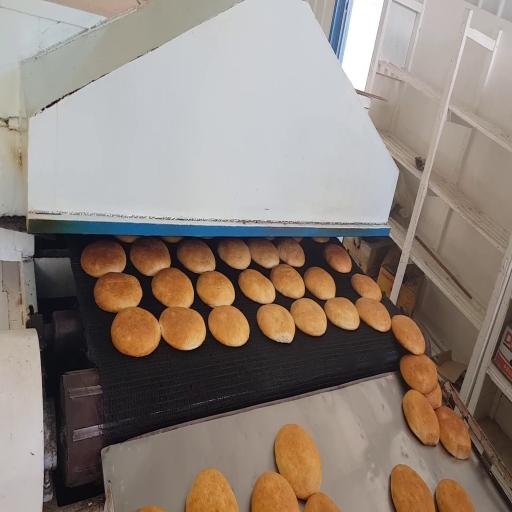bread: (275, 424, 321, 499), (111, 308, 160, 356), (186, 469, 238, 511), (391, 465, 435, 511), (159, 307, 206, 350), (403, 390, 439, 445), (435, 406, 471, 459), (94, 273, 142, 312), (252, 472, 299, 511), (81, 240, 126, 277), (208, 306, 249, 346), (152, 268, 194, 307), (130, 238, 170, 276), (257, 304, 295, 342), (400, 355, 437, 394), (196, 271, 234, 307), (291, 298, 326, 336), (177, 239, 215, 273), (392, 315, 425, 354), (355, 297, 391, 332), (239, 269, 275, 303), (271, 264, 305, 299), (436, 480, 474, 511), (324, 298, 359, 330), (217, 238, 250, 269), (304, 267, 335, 300), (247, 238, 279, 268), (277, 238, 305, 267), (351, 274, 381, 301), (324, 244, 351, 273), (304, 493, 340, 511), (425, 383, 442, 409), (115, 235, 140, 243), (161, 236, 182, 243), (137, 506, 165, 511), (312, 237, 330, 243), (294, 237, 302, 242), (265, 237, 275, 241), (202, 237, 213, 239)
